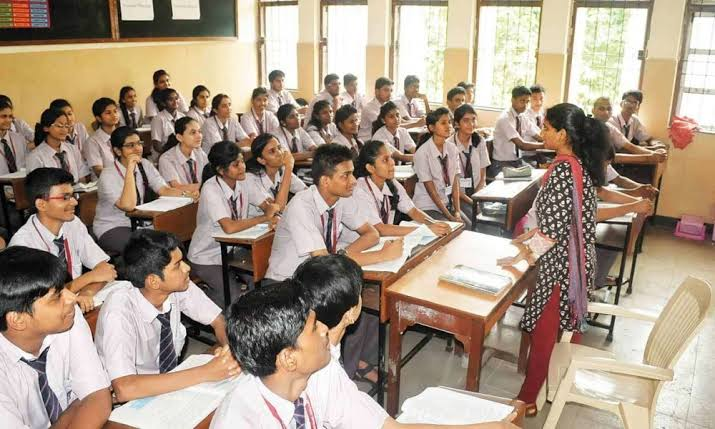student: (227, 281, 335, 385), (1, 237, 80, 348), (291, 251, 371, 333), (118, 227, 199, 296), (20, 161, 84, 224), (304, 140, 359, 203), (351, 129, 395, 183), (251, 120, 290, 176), (207, 135, 252, 183), (111, 122, 146, 171), (167, 110, 207, 151), (423, 100, 456, 145), (32, 104, 71, 142), (86, 91, 121, 130), (330, 101, 365, 136), (454, 98, 479, 139), (113, 80, 139, 116), (370, 70, 397, 104), (210, 92, 239, 123), (375, 102, 408, 129), (619, 84, 643, 120), (342, 61, 363, 102), (308, 96, 337, 124), (590, 88, 615, 120), (249, 81, 273, 112), (1, 96, 19, 137), (161, 88, 187, 115), (191, 80, 212, 113), (151, 66, 174, 95), (263, 70, 289, 95), (443, 85, 470, 109), (507, 87, 531, 112), (319, 69, 339, 98), (457, 76, 475, 104), (404, 74, 422, 100)
